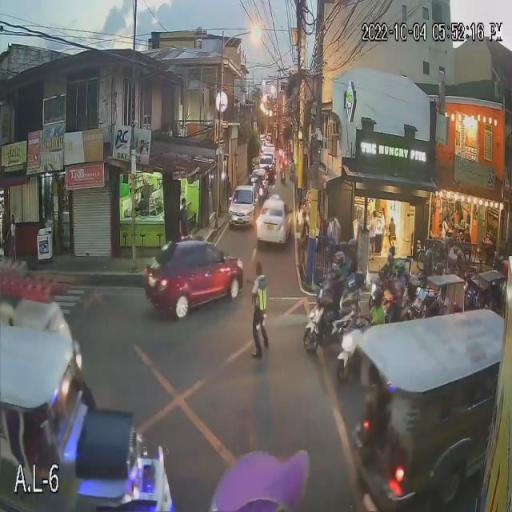helmet: (368, 285, 384, 305), (331, 250, 346, 270), (394, 259, 407, 273)
motorcycle: (303, 308, 343, 349), (390, 274, 406, 316), (336, 351, 351, 380)
rider: (324, 272, 340, 340), (369, 308, 386, 324)
